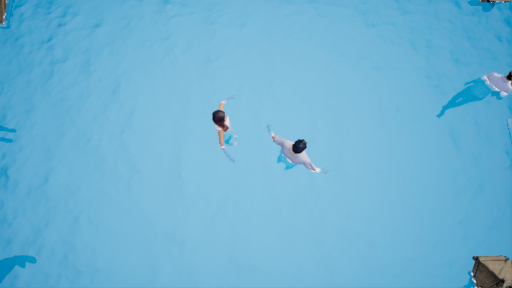person: (441, 63, 512, 132), (264, 127, 327, 179), (211, 95, 253, 165)
